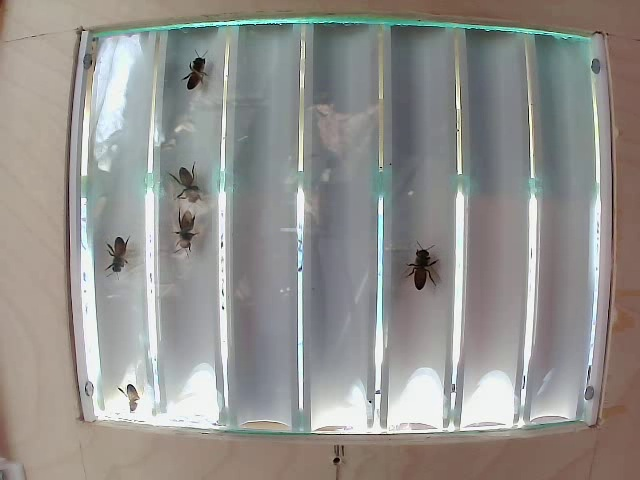bee: (402, 240, 451, 284), (180, 48, 220, 99), (95, 231, 136, 278), (166, 210, 209, 253), (169, 167, 205, 214)
